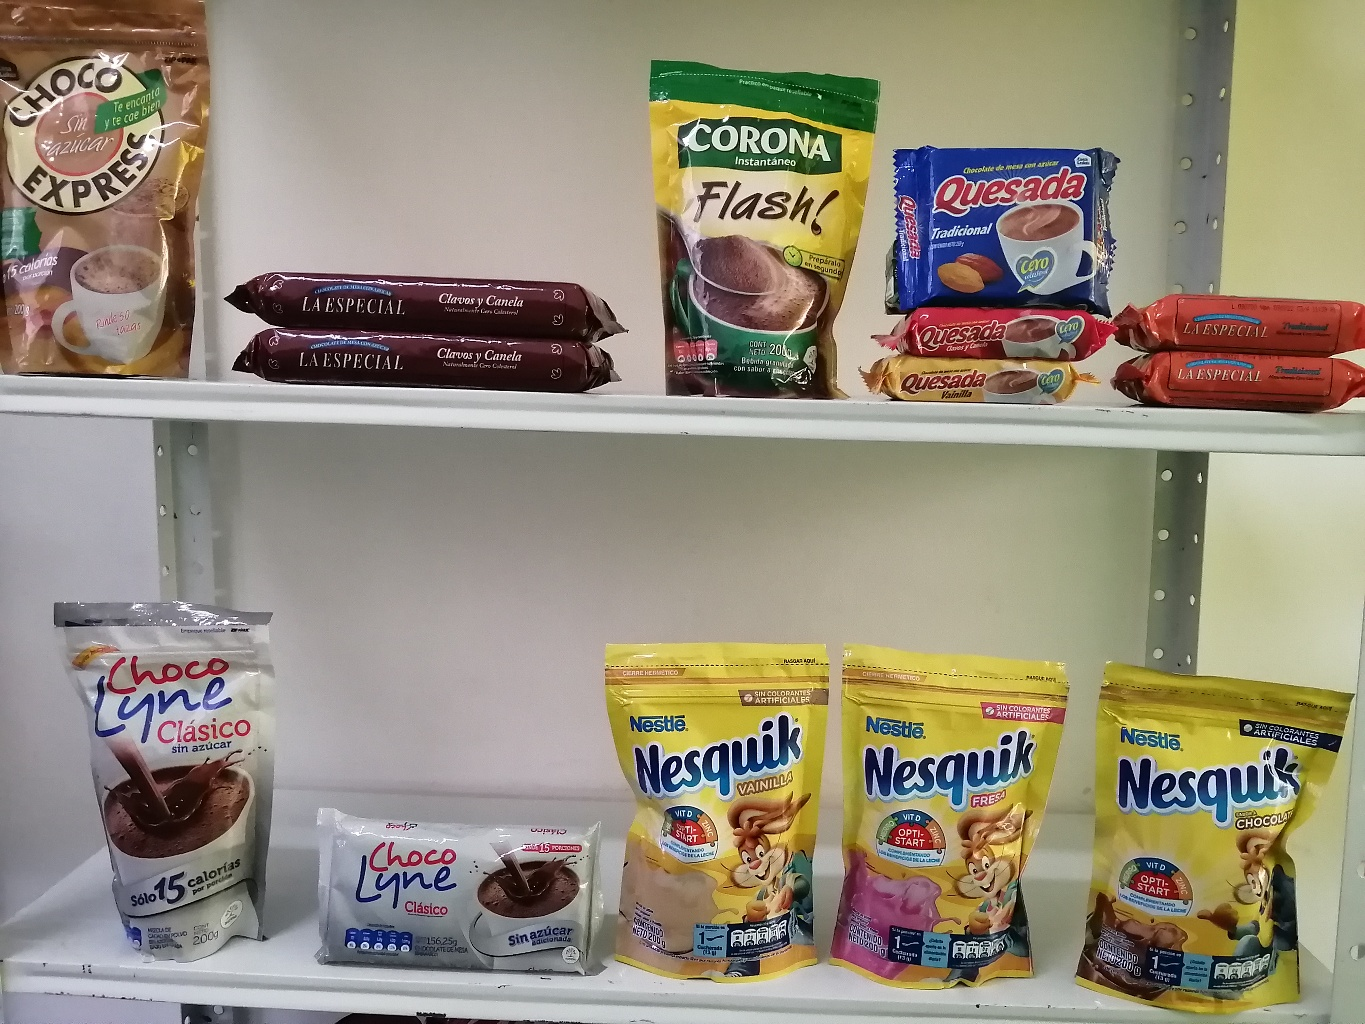COL0170303DYP20000: (1080, 649, 1347, 1016)
COL0170305DYP20000: (831, 632, 1062, 1000)
COL0170306DYP20000: (591, 635, 827, 982)
